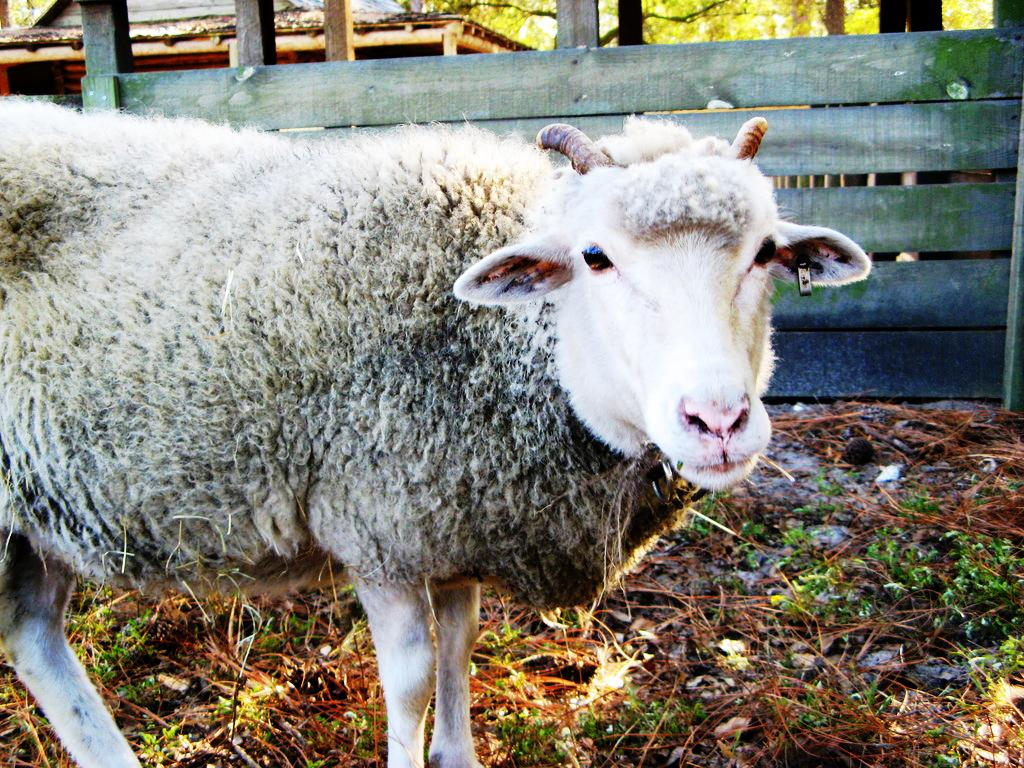Sheep: (1, 90, 871, 768)
